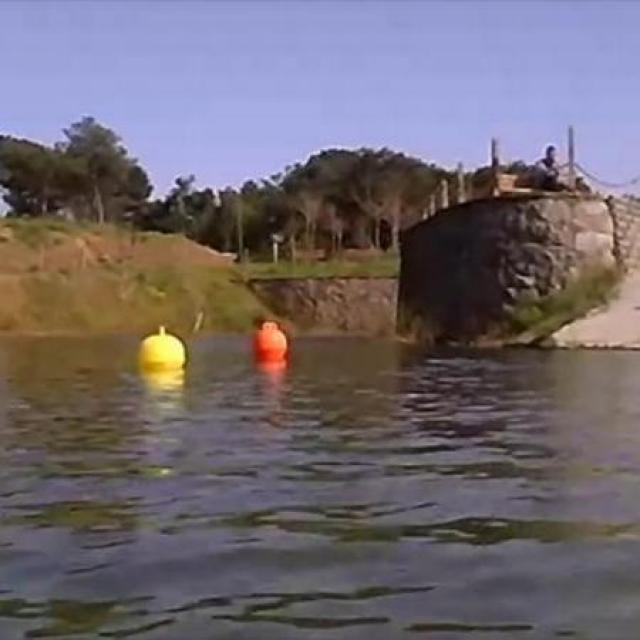buoy: (139, 325, 187, 370), (250, 318, 288, 359)
